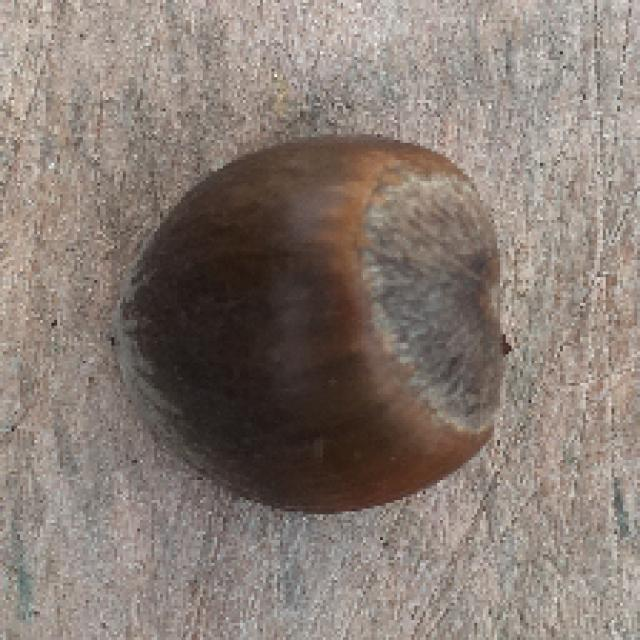qualityHazelnut: (115, 128, 518, 522)
